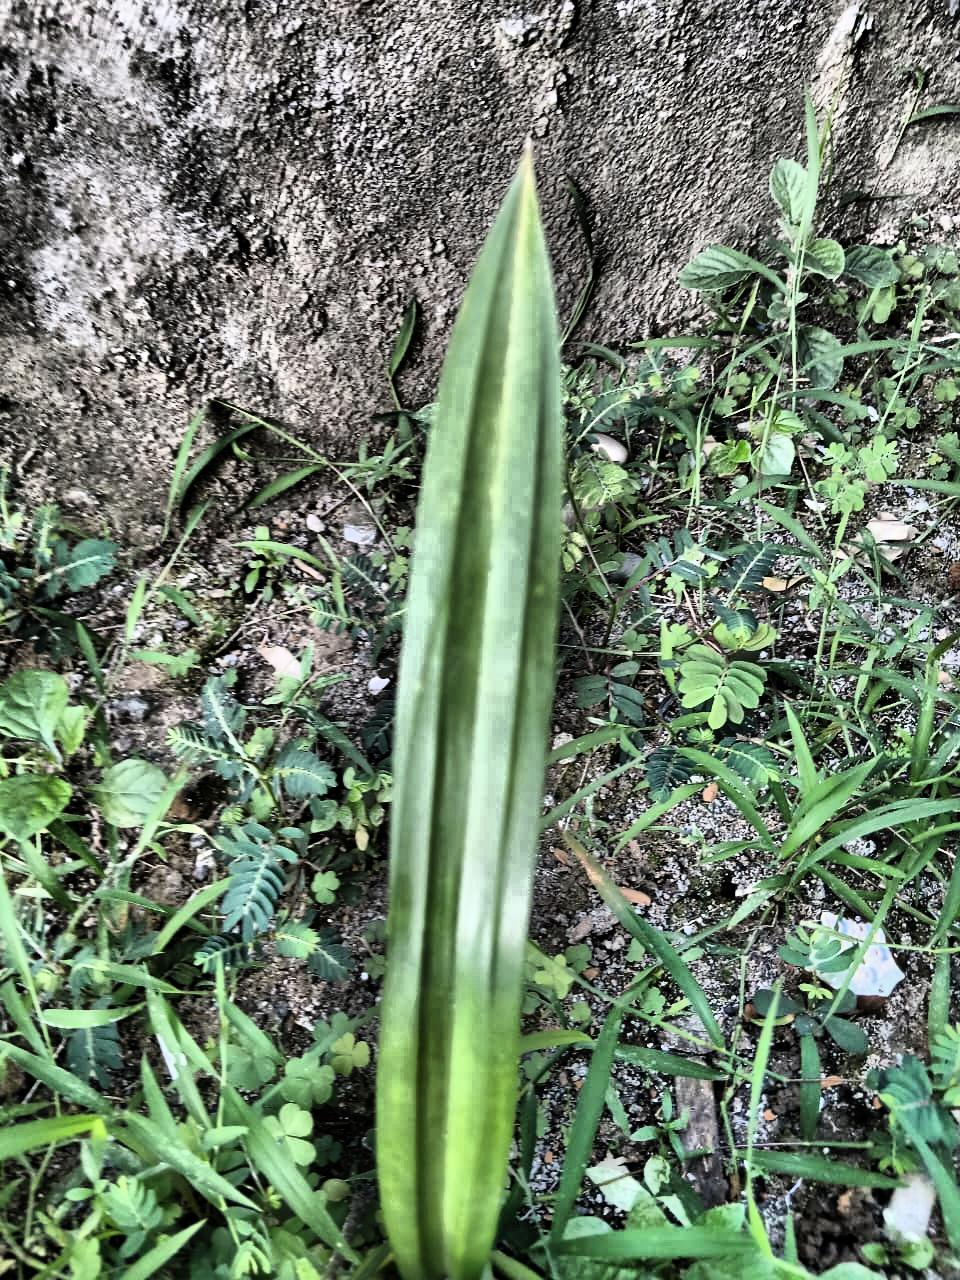daun pandan: (375, 149, 565, 1279)
